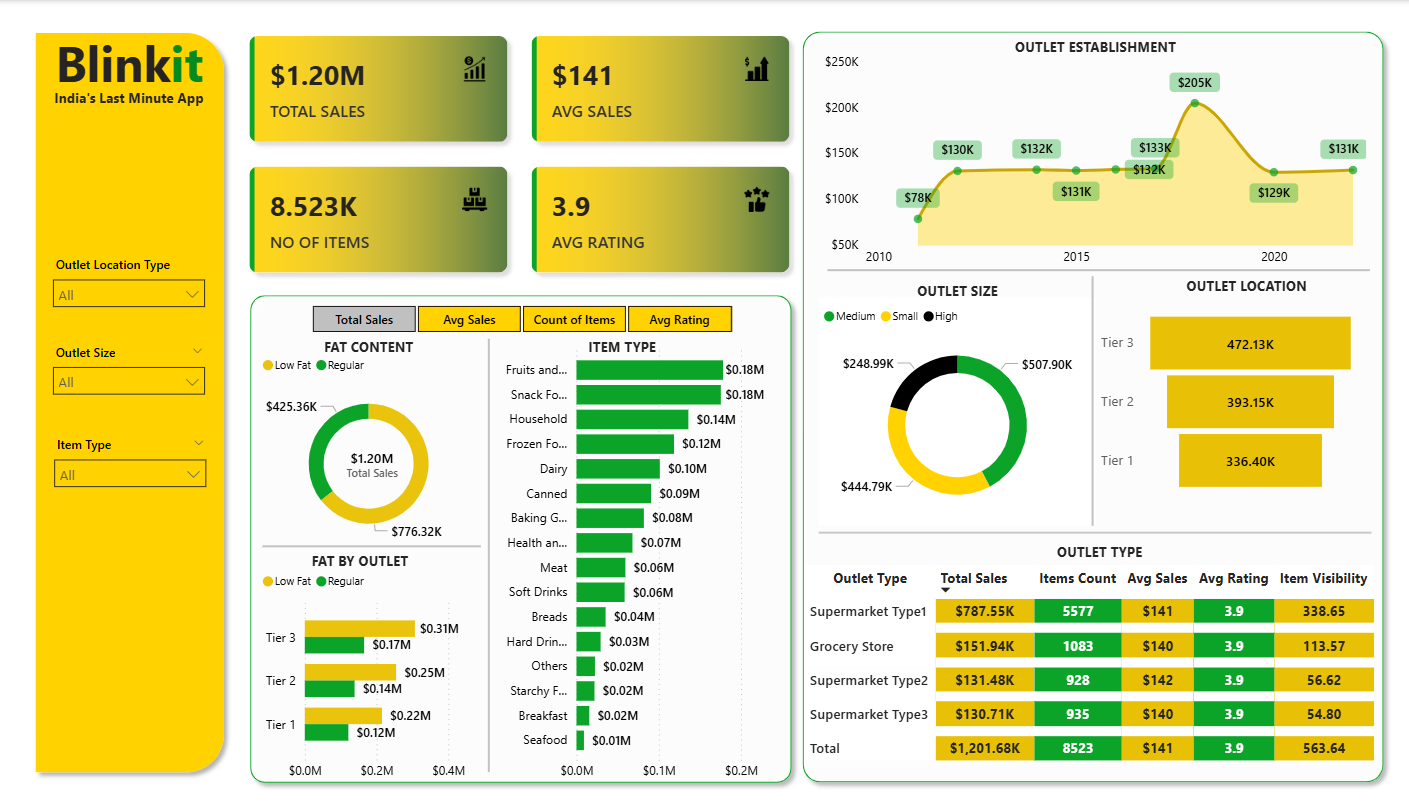

This screenshot's page, from the dashboard's own definition file:
{"tool":"powerbi","page":{"name":"Main Page","canvas":[1399,800],"ordinal":0},"visuals":[{"type":"shape","box":[25.9,23.2,204.5,749.8],"z":0},{"type":"textbox","box":[42.3,24.5,171.8,84.5],"z":1000},{"type":"textbox","box":[43.6,83.2,169.1,31.4],"z":2000},{"type":"cardVisual","fields":{"Data":["BlinkIT Grocery Data.Total Sales","BlinkIT Grocery Data.Avg Sales","BlinkIT Grocery Data.Count of Items","BlinkIT Grocery Data.Avg Rating"]},"box":[230.4,19.1,569.9,269.9],"z":3000},{"type":"shape","box":[238.6,283.6,553.5,500.3],"z":4000},{"type":"donutChart","title":"FAT CONTENT","fields":{"Y":["BlinkIT Grocery Data.Total Sales"],"Category":["BlinkIT Grocery Data.Item Fat Content"]},"box":[254.4,343,220.3,205.1],"z":5000},{"type":"slicer","fields":{"Values":["Metrics.Metrics"]},"box":[283.1,295,464.4,40],"z":6000},{"type":"cardVisual","fields":{"Data":["BlinkIT Grocery Data.Total Sales"]},"box":[320.3,426.6,96.2,57],"z":7000},{"type":"clusteredBarChart","title":"FAT BY OUTLET","fields":{"Y":["BlinkIT Grocery Data.Total Sales"],"Category":["BlinkIT Grocery Data.Outlet Location Type"],"Series":["BlinkIT Grocery Data.Item Fat Content"]},"box":[254.4,557,221.5,224.1],"z":8000},{"type":"shape","box":[260,533.8,216.2,12.5],"z":9000},{"type":"shape","box":[476.2,335,15,428.8],"z":10000},{"type":"barChart","title":"ITEM TYPE","fields":{"Y":["BlinkIT Grocery Data.Total Sales"],"Category":["BlinkIT Grocery Data.Item Type"]},"box":[483.8,333.8,295,447.5],"z":11000},{"type":"textbox","box":[568.5,328.5,93.8,28.5],"z":12000},{"type":"textbox","box":[303.8,329.1,121.5,27.8],"z":13000},{"type":"textbox","box":[297.5,540.5,116.5,27.8],"z":14000},{"type":"shape","box":[785,22.5,592.5,760.8],"z":15000},{"type":"lineChart","fields":{"Category":["BlinkIT Grocery Data.Outlet Establishment Year"],"Y":["BlinkIT Grocery Data.Total Sales"]},"box":[811.4,46.8,545.6,225.3],"z":16000},{"type":"textbox","box":[1000,31.6,169.6,29.1],"z":17000},{"type":"donutChart","fields":{"Category":["BlinkIT Grocery Data.Outlet Size"],"Y":["BlinkIT Grocery Data.Total Sales"]},"box":[810.1,294.9,274.7,225.3],"z":18000},{"type":"textbox","box":[888.6,273.4,119,29.1],"z":19000},{"type":"shape","box":[1077.2,273.4,7.6,246.8],"z":20000},{"type":"funnel","fields":{"Y":["Sum(BlinkIT Grocery Data.Sales)"],"Category":["BlinkIT Grocery Data.Outlet Location Type"]},"box":[1084.8,259.5,262,274.7],"z":21000},{"type":"textbox","box":[1157,268.4,154.4,29.1],"z":22000},{"type":"shape","box":[810.1,519,546.8,15.2],"z":23000},{"type":"shape","box":[819,260.8,536.7,12.7],"z":24000},{"type":"pivotTable","fields":{"Rows":["BlinkIT Grocery Data.Outlet Type"],"Values":["BlinkIT Grocery Data.Total Sales","BlinkIT Grocery Data.Count of Items","BlinkIT Grocery Data.Avg Sales","BlinkIT Grocery Data.Avg Rating","Sum(BlinkIT Grocery Data.Item Visibility)"]},"box":[791.1,554.4,574.7,230.4],"z":25000},{"type":"textbox","box":[1019,531.6,138,29.1],"z":26000},{"type":"slicer","fields":{"Values":["BlinkIT Grocery Data.Outlet Location Type"]},"box":[41.8,248.1,170.9,81],"z":27000},{"type":"slicer","fields":{"Values":["BlinkIT Grocery Data.Item Type"]},"box":[43,426.6,170.9,81],"z":28000},{"type":"slicer","fields":{"Values":["BlinkIT Grocery Data.Outlet Size"]},"box":[41.8,335.4,170.9,81],"z":29000}]}

Visuals, with their boxes in screenshot pixels (x1, y1, x2, y2), scaled from the page's 1399x800 canvas onto the 1409x808 screenshot:
shape: l=26, t=23, r=232, b=781
textbox: l=43, t=25, r=216, b=110
textbox: l=44, t=84, r=214, b=116
cardVisual - BlinkIT Grocery Data.Total Sales x BlinkIT Grocery Data.Avg Sales: l=232, t=19, r=806, b=292
shape: l=240, t=286, r=798, b=792
"FAT CONTENT" donutChart: l=256, t=346, r=478, b=554
slicer - Metrics.Metrics: l=285, t=298, r=753, b=338
cardVisual - BlinkIT Grocery Data.Total Sales: l=323, t=431, r=419, b=488
"FAT BY OUTLET" clusteredBarChart: l=256, t=563, r=479, b=789
shape: l=262, t=539, r=480, b=552
shape: l=480, t=338, r=495, b=771
"ITEM TYPE" barChart: l=487, t=337, r=784, b=789
textbox: l=573, t=332, r=667, b=361
textbox: l=306, t=332, r=428, b=360
textbox: l=300, t=546, r=417, b=574
shape: l=791, t=23, r=1387, b=791
lineChart - BlinkIT Grocery Data.Outlet Establishment Year x BlinkIT Grocery Data.Total Sales: l=817, t=47, r=1367, b=275
textbox: l=1007, t=32, r=1178, b=61
donutChart - BlinkIT Grocery Data.Outlet Size x BlinkIT Grocery Data.Total Sales: l=816, t=298, r=1093, b=525
textbox: l=895, t=276, r=1015, b=306
shape: l=1085, t=276, r=1093, b=525
funnel - Sum(BlinkIT Grocery Data.Sales) x BlinkIT Grocery Data.Outlet Location Type: l=1093, t=262, r=1356, b=540
textbox: l=1165, t=271, r=1321, b=300
shape: l=816, t=524, r=1367, b=540
shape: l=825, t=263, r=1365, b=276
pivotTable - BlinkIT Grocery Data.Outlet Type x BlinkIT Grocery Data.Total Sales: l=797, t=560, r=1376, b=793
textbox: l=1026, t=537, r=1165, b=566
slicer - BlinkIT Grocery Data.Outlet Location Type: l=42, t=251, r=214, b=332
slicer - BlinkIT Grocery Data.Item Type: l=43, t=431, r=215, b=513
slicer - BlinkIT Grocery Data.Outlet Size: l=42, t=339, r=214, b=421
